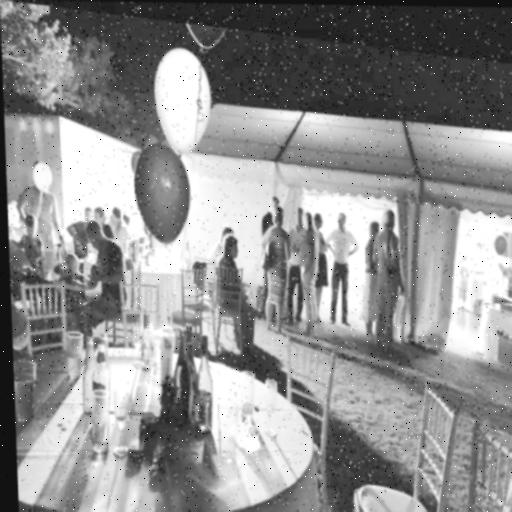balloon: (130, 139, 195, 245), (153, 41, 216, 146), (184, 19, 226, 45), (33, 159, 54, 191), (482, 221, 495, 243), (496, 224, 509, 243)
